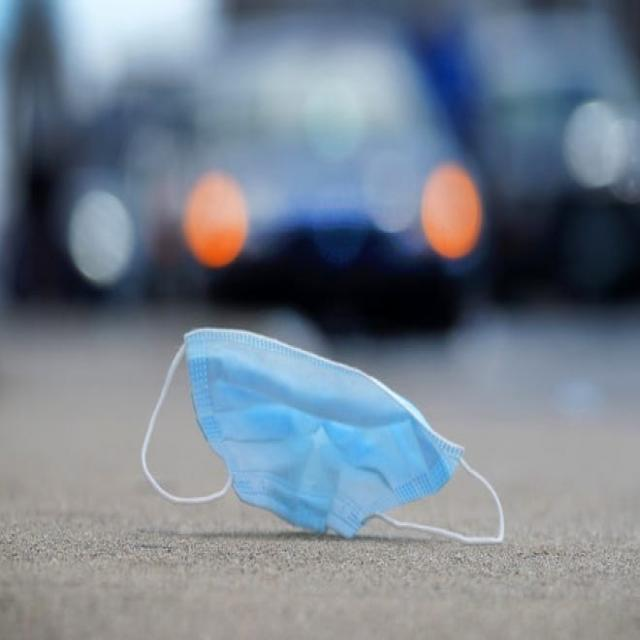non-organic waste: (138, 326, 503, 546)
